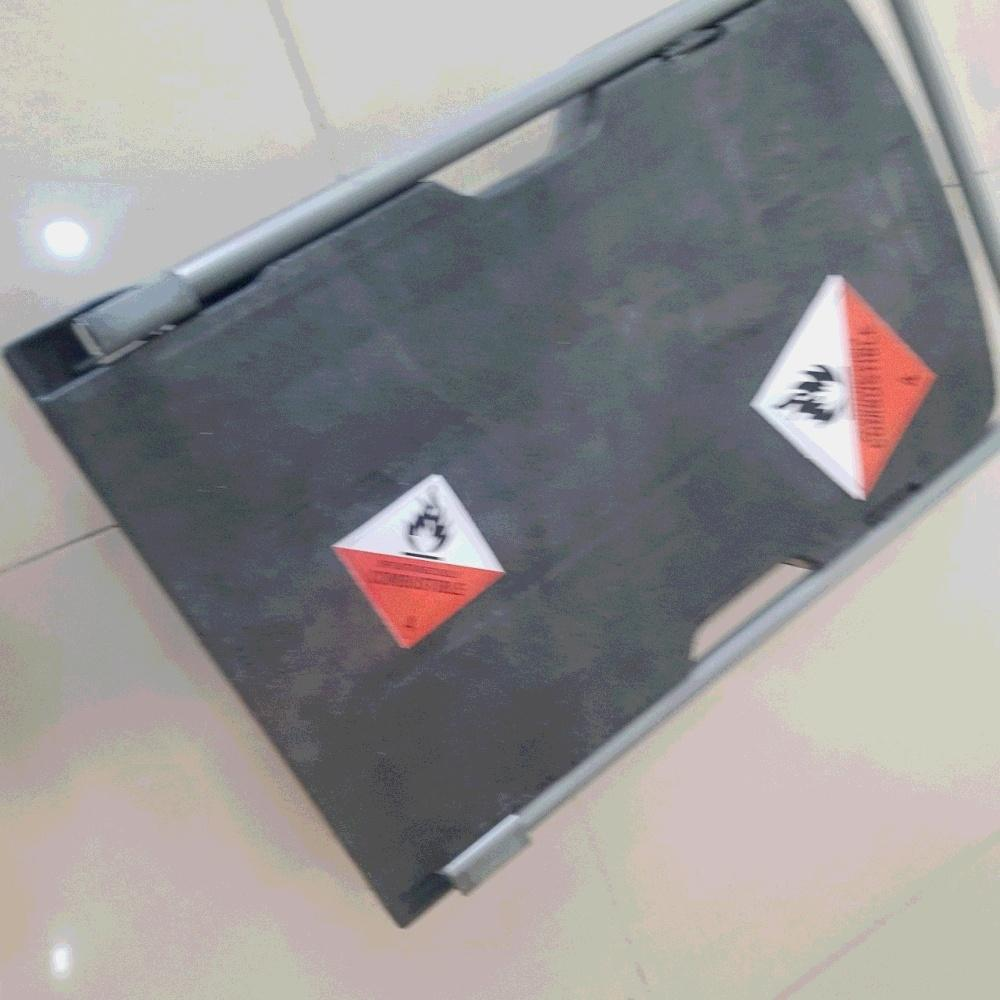spontaneously-combustible: (746, 273, 936, 500), (331, 471, 507, 651)
